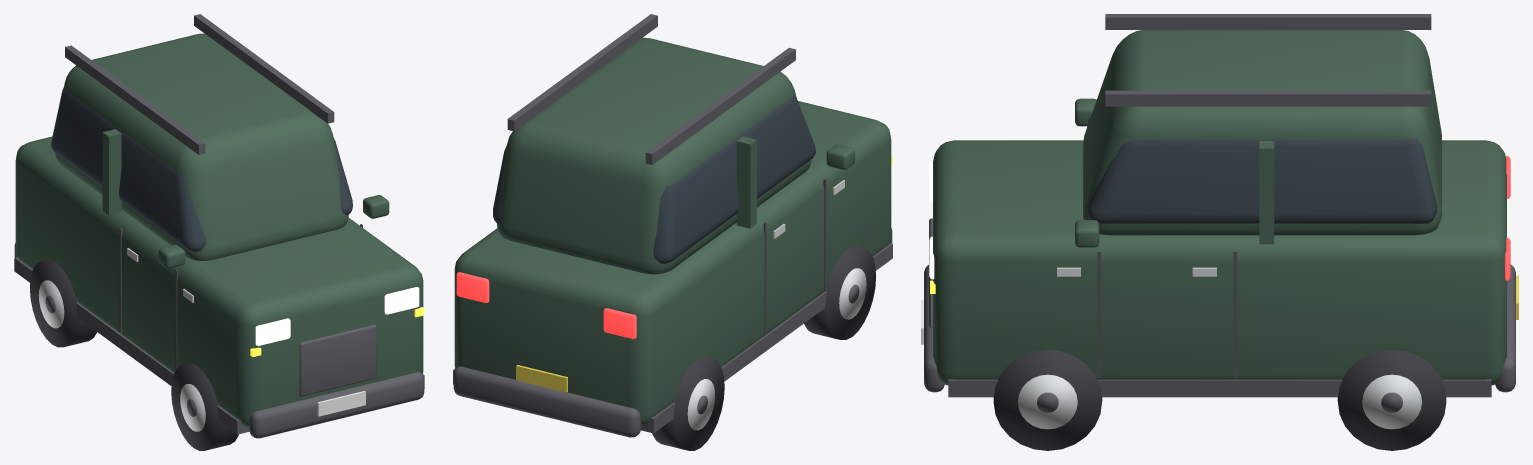
File: suv.glb
3 views of the same model, side by side, from view 1: azimuth 30°, elevation 25°; view 2: azimuth 150°, elevation 25°; view 3: azimuth 270°, elevation 25° (orthographic). The views are drawn at different scales.
Visible parts, largest first — view 1: suv; view 2: suv; view 3: suv.
Boxes of the visible parts, x1,y1,x2,y2 form: suv: (14,14,424,450); suv: (453,14,892,450); suv: (921,14,1518,450).
Size of the model in its own units: 1.04 by 1.24 by 1.98.
